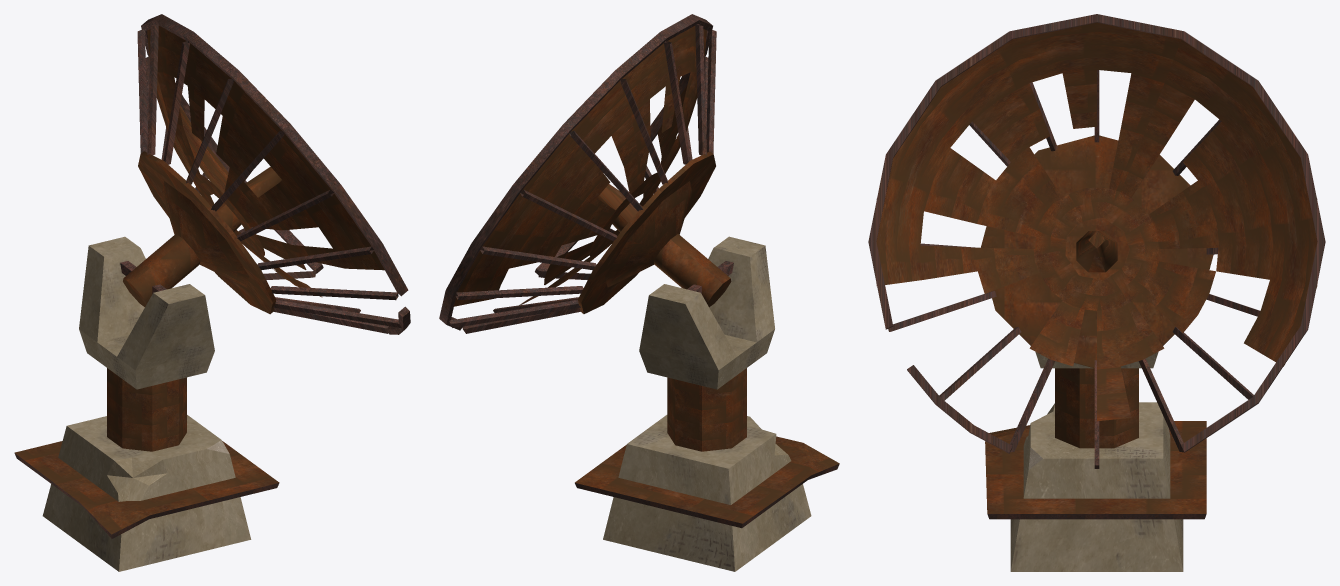
The model's file is SM_Satellite_dish.FBX.
3 renders of one model, left to right at view 1: azimuth 30°, elevation 25°; view 2: azimuth 150°, elevation 25°; view 3: azimuth 270°, elevation 25°, orthographic. The views are drawn at different scales.
Parts seen in each view (by area): view 1: SM_Dish, SM_Satellite_dish, SM_Dish_Base; view 2: SM_Dish, SM_Satellite_dish, SM_Dish_Base; view 3: SM_Dish, SM_Satellite_dish.
Boxes of the visible parts, x1=… form: SM_Dish: x1=123, y1=14, x2=410, y2=334; SM_Satellite_dish: x1=14, y1=368, x2=279, y2=571; SM_Dish_Base: x1=79, y1=236, x2=214, y2=389; SM_Dish: x1=439, y1=14, x2=731, y2=333; SM_Satellite_dish: x1=575, y1=368, x2=839, y2=571; SM_Dish_Base: x1=639, y1=236, x2=774, y2=389; SM_Dish: x1=868, y1=14, x2=1325, y2=468; SM_Satellite_dish: x1=985, y1=368, x2=1206, y2=571.
Bounding box in the file's own units: 411 × 478 × 632.
